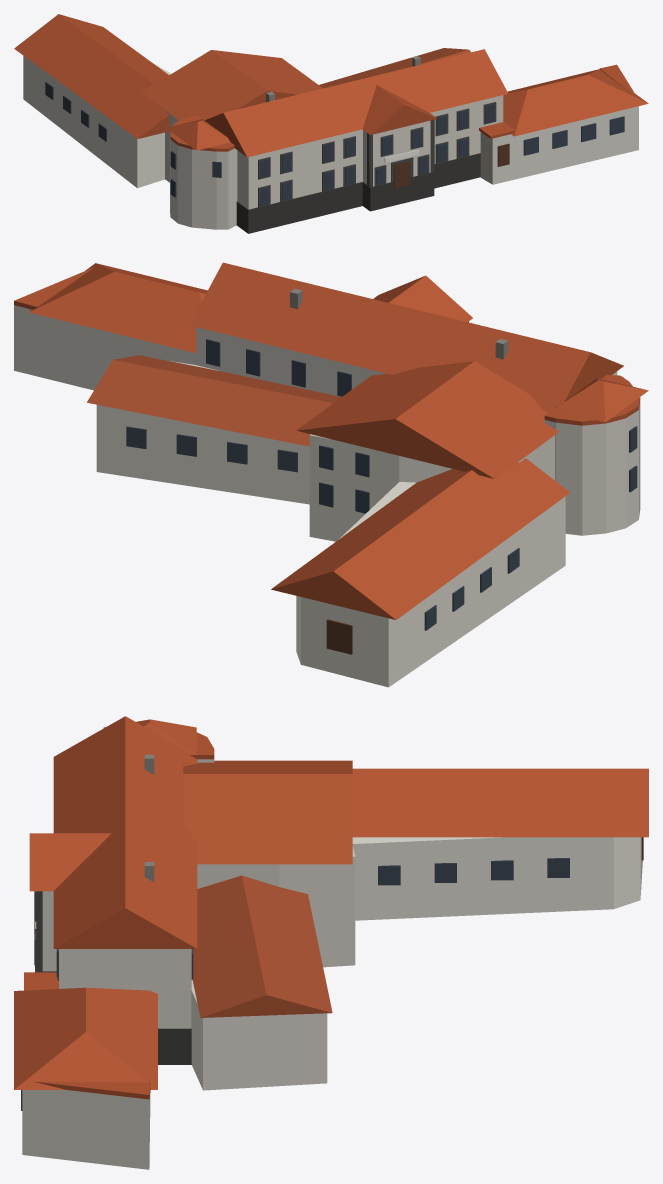
Rendered from ecole-publique-orcines.glb.
3 views of the same model, one above another, from view 1: azimuth 30°, elevation 25°; view 2: azimuth 150°, elevation 25°; view 3: azimuth 270°, elevation 25° (orthographic). The views are drawn at different scales.
Parts seen in each view (by area): view 1: Ecole Publique Orcines; view 2: Ecole Publique Orcines; view 3: Ecole Publique Orcines.
Part boxes in pixels (box(x1,y1,x2,y2)): Ecole Publique Orcines: box(14, 14, 648, 233); Ecole Publique Orcines: box(14, 262, 648, 687); Ecole Publique Orcines: box(14, 716, 648, 1169).
Bounding box in the file's own units: 54.49 × 12.4 × 45.
